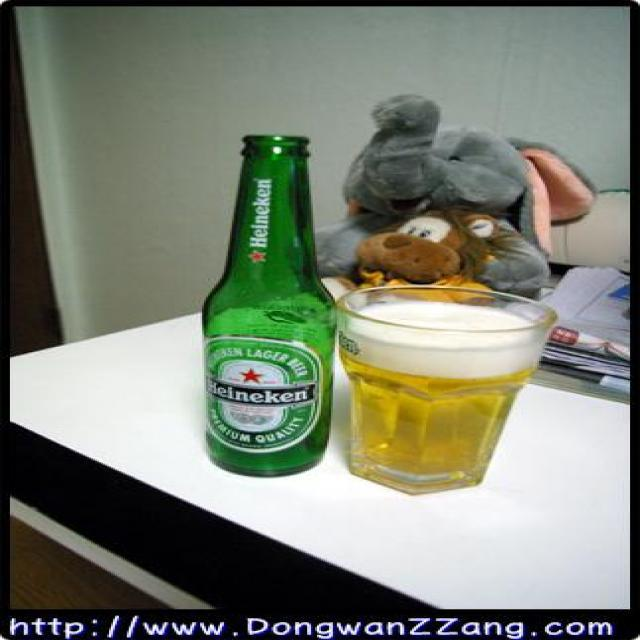beer-bottle: (182, 128, 349, 486)
